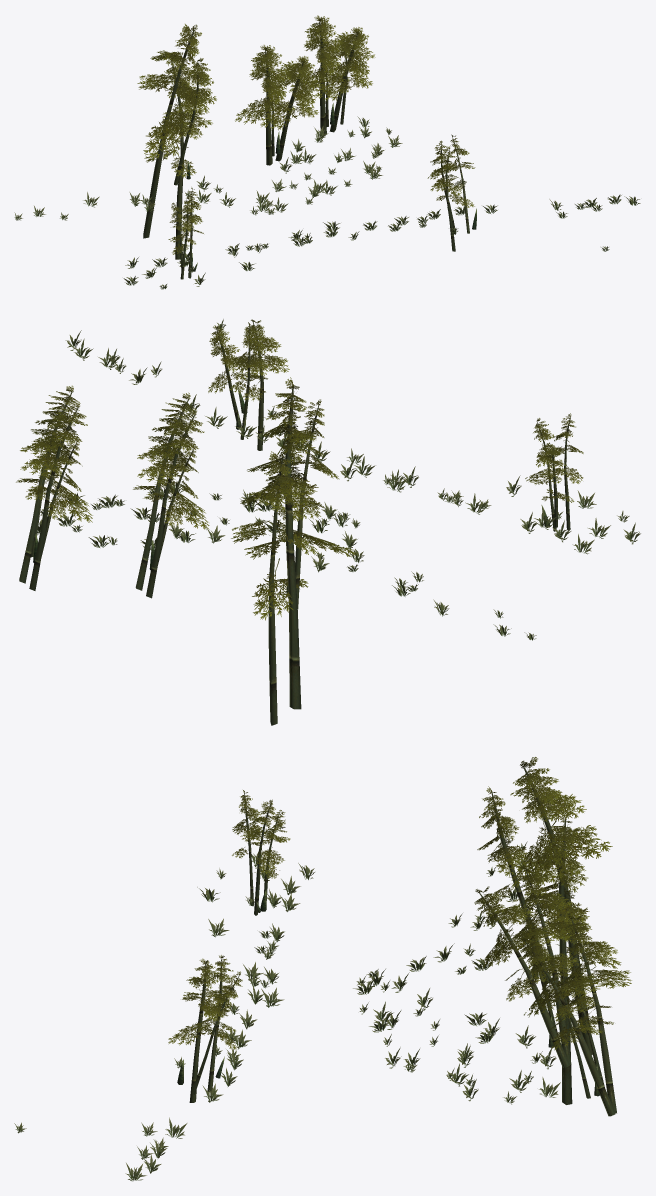
The model's file is Area_13_24.fbx.
The picture shows the model from 3 angles, top to bottom: view 1: azimuth 30°, elevation 25°; view 2: azimuth 150°, elevation 25°; view 3: azimuth 270°, elevation 25°; orthographic projection. The views are drawn at different scales.
Visible parts, largest first — view 1: Area_13_24; view 2: Area_13_24; view 3: Area_13_24.
Part boxes in pixels (x1,y1,x2,y2): Area_13_24: (14,15,640,289); Area_13_24: (16,319,640,725); Area_13_24: (14,757,631,1181).
Size of the model in its own units: 3777 by 1831 by 2992.
